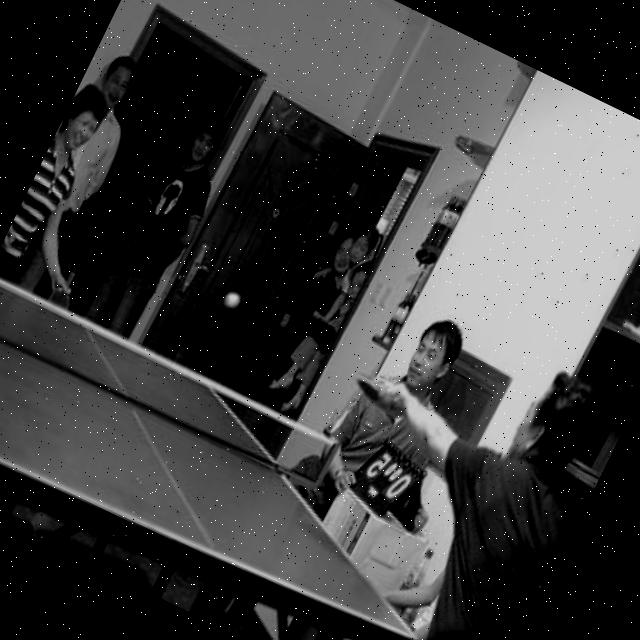ping-pong-ball: (220, 286, 243, 310)
